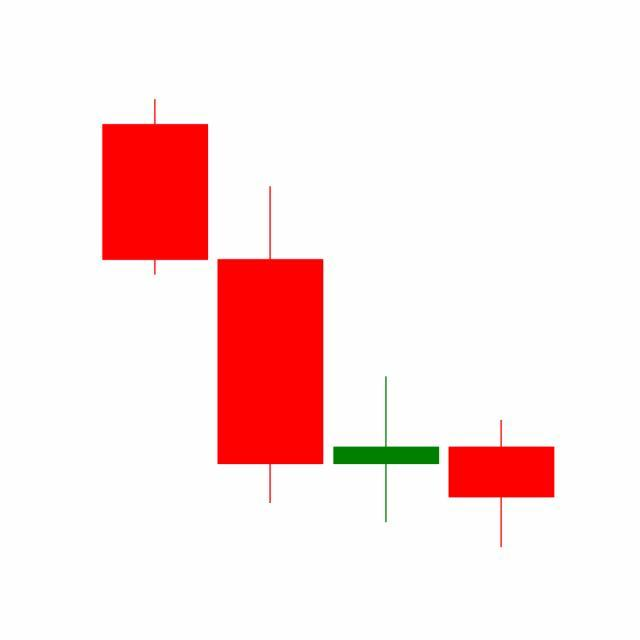Spinning Top: (329, 374, 445, 525)
